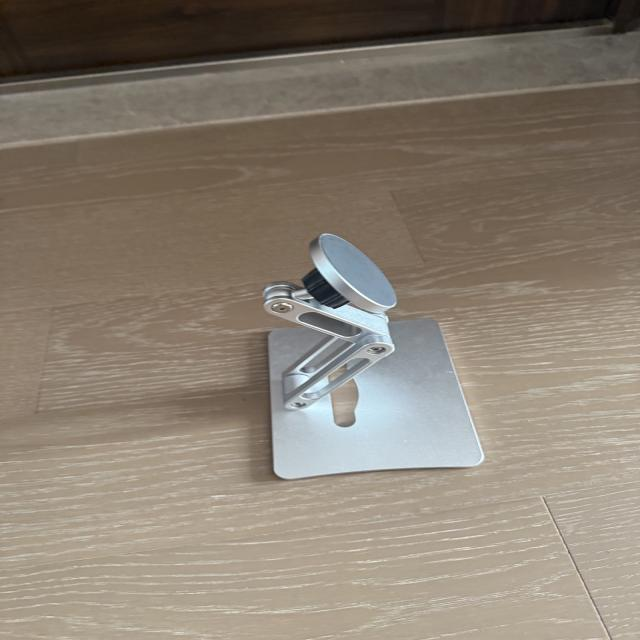phone holder: (215, 219, 494, 487)
